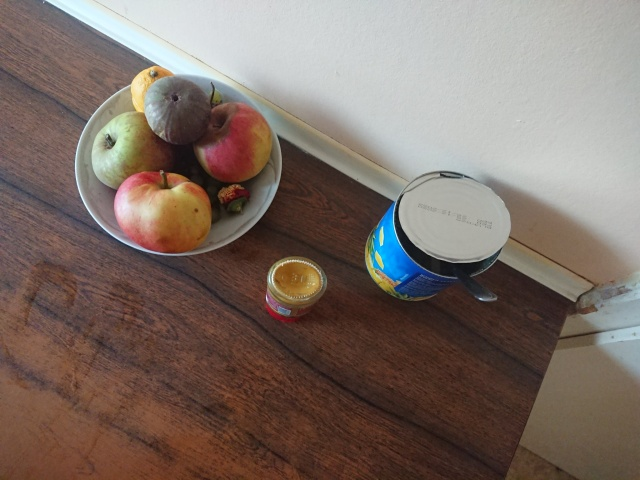Kotanyi Curry Spices Mix 70g: (263, 253, 329, 326)
